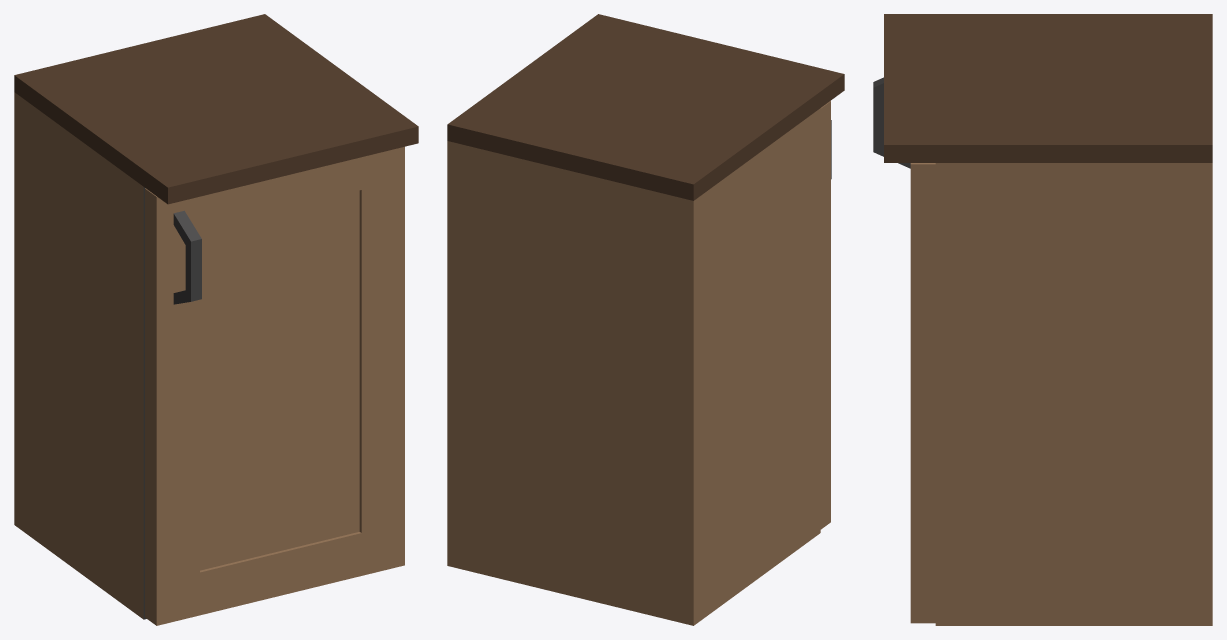
The model's file is Kitchen_Cabinet_3B.fbx.
3 renders of one model, left to right at view 1: azimuth 30°, elevation 25°; view 2: azimuth 150°, elevation 25°; view 3: azimuth 270°, elevation 25°, orthographic. The views are drawn at different scales.
Visible parts, largest first — view 1: polySurface2170; view 2: polySurface2170; view 3: polySurface2170.
Boxes of the visible parts, x1=… form: polySurface2170: x1=14, y1=14, x2=418, y2=625; polySurface2170: x1=447, y1=14, x2=844, y2=625; polySurface2170: x1=873, y1=14, x2=1212, y2=625.
Bounding box in the file's own units: 0.7792 × 1.34 × 0.8536.
1 material, 1 textured.
